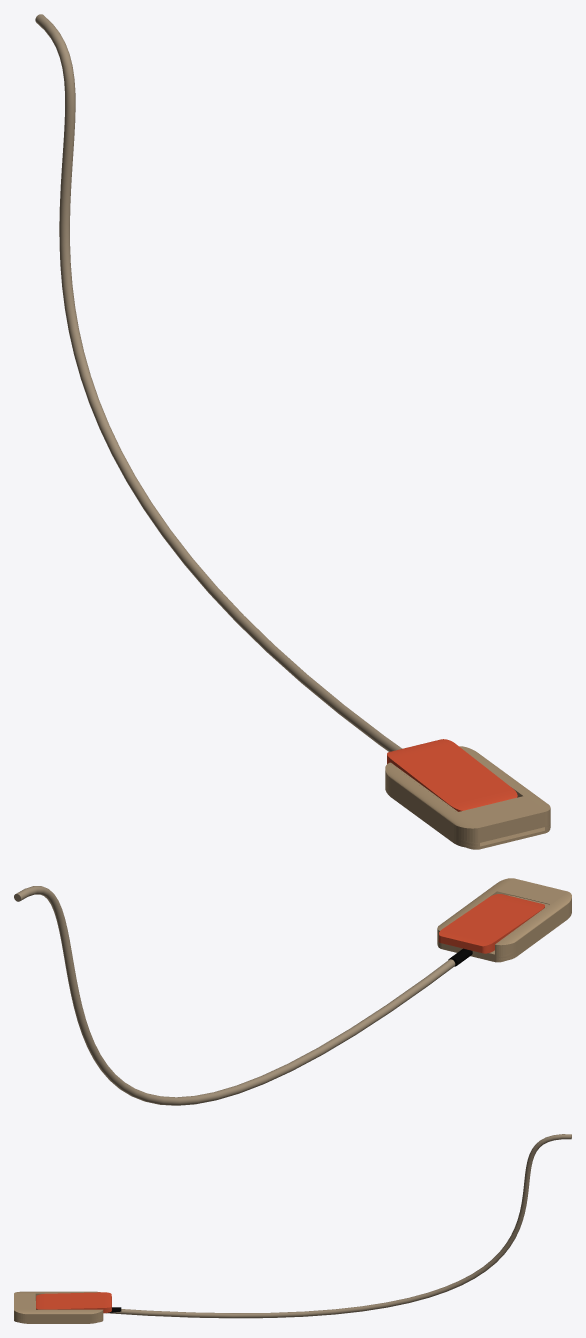
Rendered from ConectorElectrodoRetornoR.glb.
3 views of the same model, one above another, from view 1: azimuth 30°, elevation 25°; view 2: azimuth 150°, elevation 25°; view 3: azimuth 270°, elevation 25° (orthographic). The views are drawn at different scales.
Parts seen in each view (by area): view 1: Curva Bézier, Parte cable asegurador.003, Parte cable asegurador.004; view 2: Curva Bézier, Parte cable asegurador.003, Parte cable asegurador.004; view 3: Curva Bézier, Parte cable asegurador.003, Parte cable asegurador.004.
Part boxes in pixels (x1,y1,x2,y2): Curva Bézier: (35, 14, 402, 751); Parte cable asegurador.003: (385, 746, 550, 849); Parte cable asegurador.004: (387, 739, 517, 811); Curva Bézier: (14, 886, 455, 1105); Parte cable asegurador.003: (437, 878, 571, 962); Parte cable asegurador.004: (438, 894, 544, 953); Curva Bézier: (107, 1134, 571, 1318); Parte cable asegurador.003: (14, 1291, 103, 1323); Parte cable asegurador.004: (36, 1292, 111, 1313).
Bounding box in the file's own units: 31.52 × 89.69 × 225.
